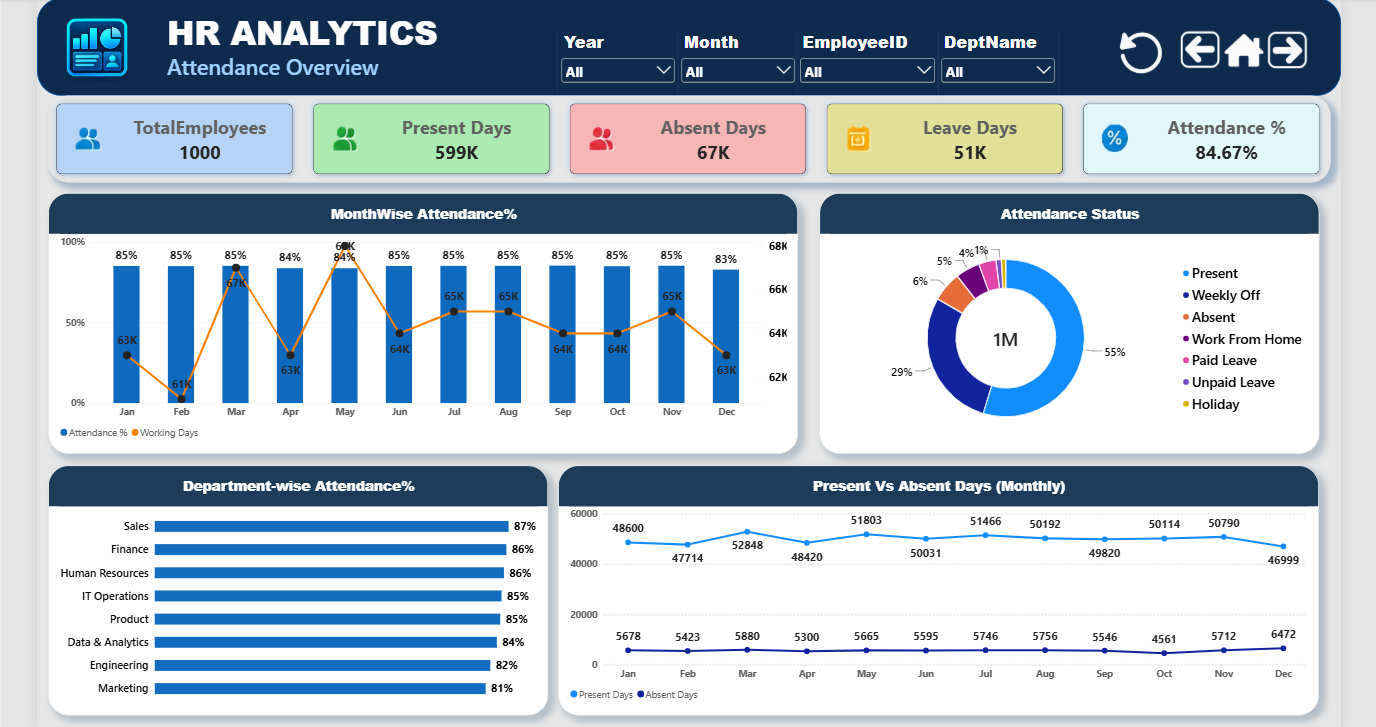

The dashboard page shown, as its layout file describes it:
{"tool":"powerbi","page":{"name":"Attendance Overview","canvas":[1920,1080],"ordinal":1},"visuals":[{"type":"shape","box":[0,0,1920,144],"z":0},{"type":"image","box":[1744,48,64,56.9],"z":0,"group":"g2"},{"type":"textbox","box":[192,16,696,96],"z":1000},{"type":"slicer","fields":{"Values":["Departments.DeptName"]},"box":[1328,48,176,96],"z":1000,"group":"g3"},{"type":"image","box":[1808,48,64,56.9],"z":1000,"group":"g2"},{"type":"slicer","fields":{"Values":["Employees.EmployeeID"]},"box":[1120,48,208,96],"z":2000,"group":"g3"},{"type":"image","box":[1680,48,64,56.9],"z":2000,"group":"g2"},{"type":"textbox","box":[192,80,512,48],"z":2000},{"type":"slicer","fields":{"Values":["Calender.Year"]},"box":[768,48,176,96],"z":2012,"group":"g1"},{"type":"image","box":[16,16,144,112],"z":3000},{"type":"slicer","fields":{"Values":["Calender.Month Name"]},"box":[944,48,176,96],"z":3000,"group":"g3"},{"type":"group","id":"g1","title":"Group 2","box":[768,48,176,96],"z":4000,"group":"g3"},{"type":"group","id":"g2","title":"Group 1","box":[1680,48,192,48],"z":4000},{"type":"cardVisual","fields":{"Data":["All_Measures.Total Employees","All_Measures.Present Days","All_Measures.Absent Days","All_Measures.Leave Days","All_Measures.Attendance%"]},"box":[16,144,1888,128],"z":5000},{"type":"donutChart","title":"Attendance Status","fields":{"Category":["Attendance.Status"],"Y":["All_Measures.Total Attendance Records"]},"box":[1152,288,736,384],"z":6000},{"type":"group","id":"g3","title":"Group 3","box":[768,48,720,96],"z":7000},{"type":"barChart","title":"Department-wise Attendance%","fields":{"Category":["Departments.DeptName"],"Y":["All_Measures.Attendance%"]},"box":[16,688,736,368],"z":8000},{"type":"lineStackedColumnComboChart","title":"MonthWise Attendance%","fields":{"Category":["Calender.Month"],"Y":["All_Measures.Attendance%"],"Y2":["All_Measures.Total_WorkingDays"]},"box":[16,288,1104,384],"z":9000},{"type":"lineChart","title":"Present Vs Absent Days (Monthly)","fields":{"Category":["Calender.Month"],"Y":["All_Measures.Present Days","All_Measures.Absent Days"]},"box":[768,688,1120,368],"z":10000},{"type":"image","box":[1584,48,80,64],"z":11000}]}

Visuals, with their boxes on the page's 1920x1080 design canvas (x1, y1, x2, y2). These are canvas units, not pixel positions in the 1376x727 screenshot, which may show the page scaled, cropped or inside an application window:
shape: <bbox>0, 0, 1920, 144</bbox>
image: <bbox>1744, 48, 1808, 105</bbox>
textbox: <bbox>192, 16, 888, 112</bbox>
slicer - Departments.DeptName: <bbox>1328, 48, 1504, 144</bbox>
image: <bbox>1808, 48, 1872, 105</bbox>
slicer - Employees.EmployeeID: <bbox>1120, 48, 1328, 144</bbox>
image: <bbox>1680, 48, 1744, 105</bbox>
textbox: <bbox>192, 80, 704, 128</bbox>
slicer - Calender.Year: <bbox>768, 48, 944, 144</bbox>
image: <bbox>16, 16, 160, 128</bbox>
slicer - Calender.Month Name: <bbox>944, 48, 1120, 144</bbox>
"Group 2" group: <bbox>768, 48, 944, 144</bbox>
"Group 1" group: <bbox>1680, 48, 1872, 96</bbox>
cardVisual - All_Measures.Total Employees x All_Measures.Present Days: <bbox>16, 144, 1904, 272</bbox>
"Attendance Status" donutChart: <bbox>1152, 288, 1888, 672</bbox>
"Group 3" group: <bbox>768, 48, 1488, 144</bbox>
"Department-wise Attendance%" barChart: <bbox>16, 688, 752, 1056</bbox>
"MonthWise Attendance%" lineStackedColumnComboChart: <bbox>16, 288, 1120, 672</bbox>
"Present Vs Absent Days (Monthly)" lineChart: <bbox>768, 688, 1888, 1056</bbox>
image: <bbox>1584, 48, 1664, 112</bbox>
